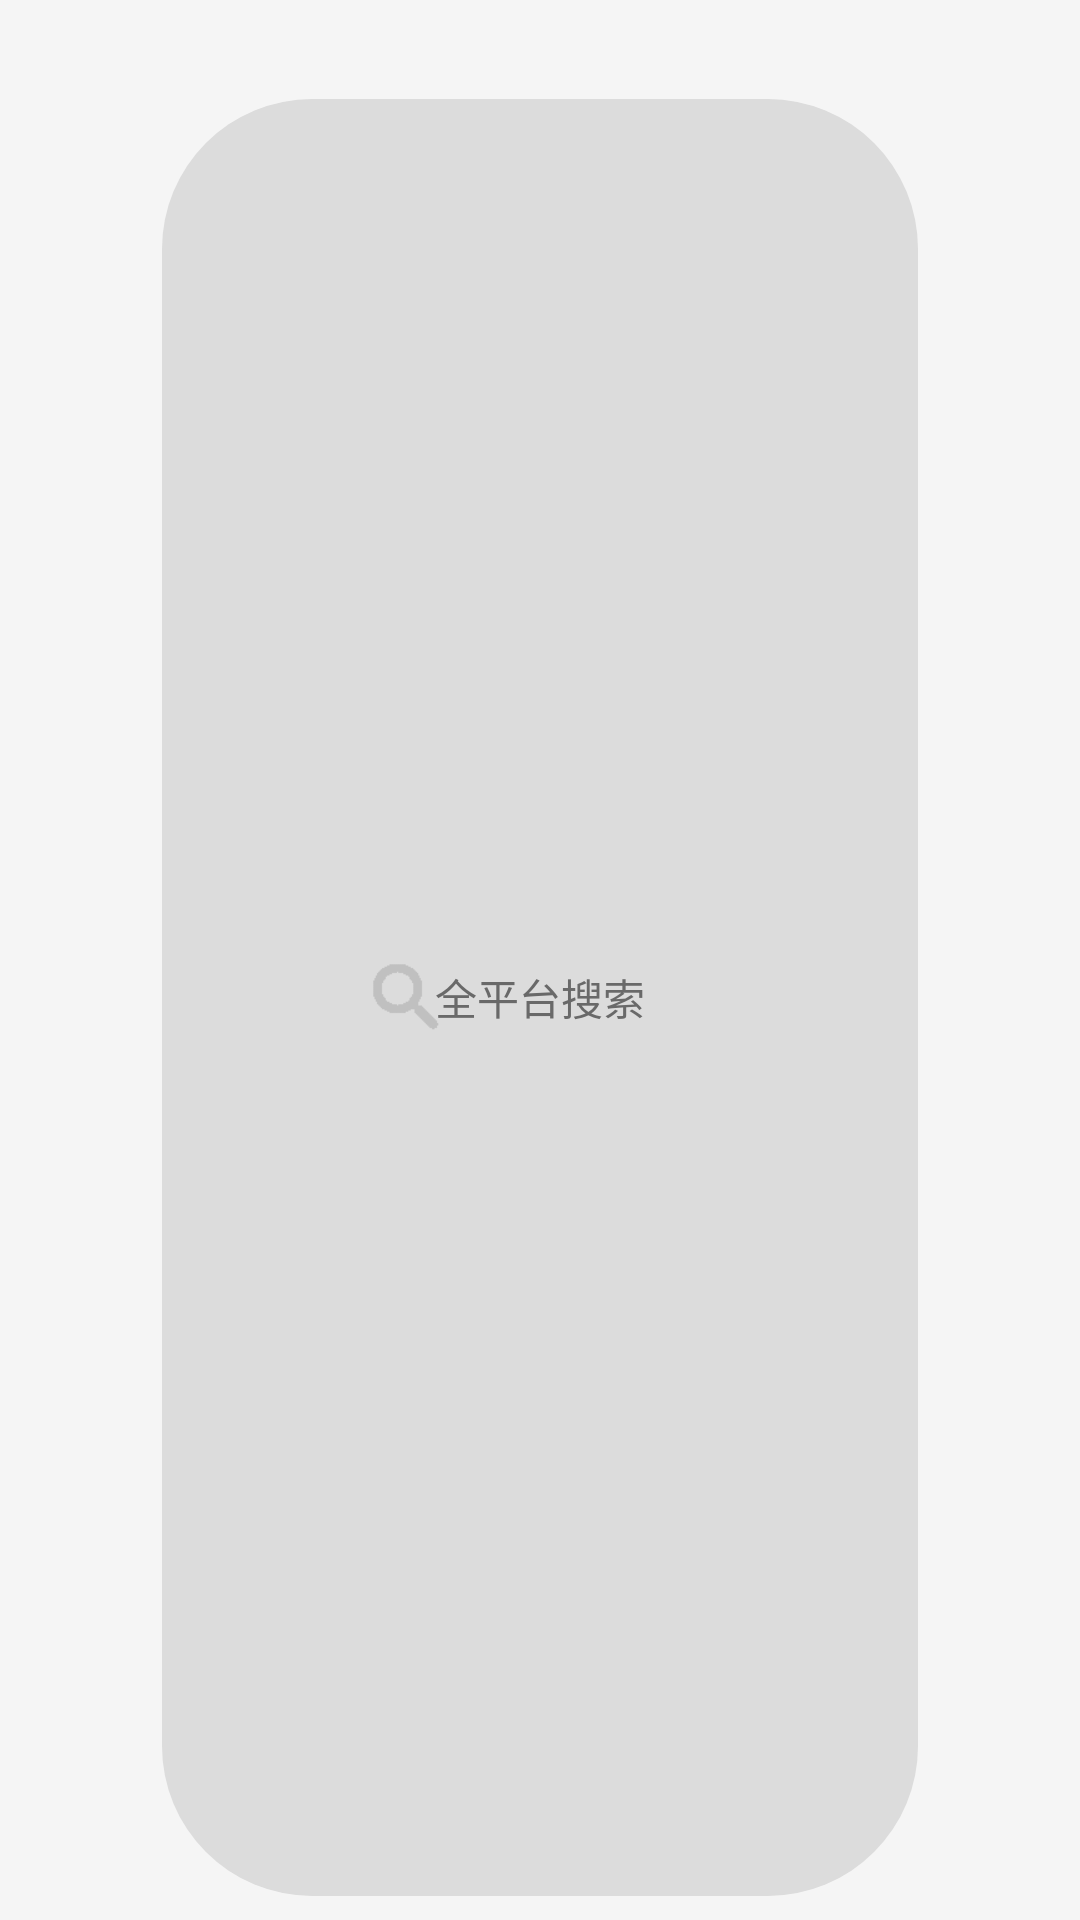

Icons on this 1080w x 1920h Android screen, each with its box as rect(x1, y1, x2, y2):
search top: rect(374, 965, 438, 1029)
